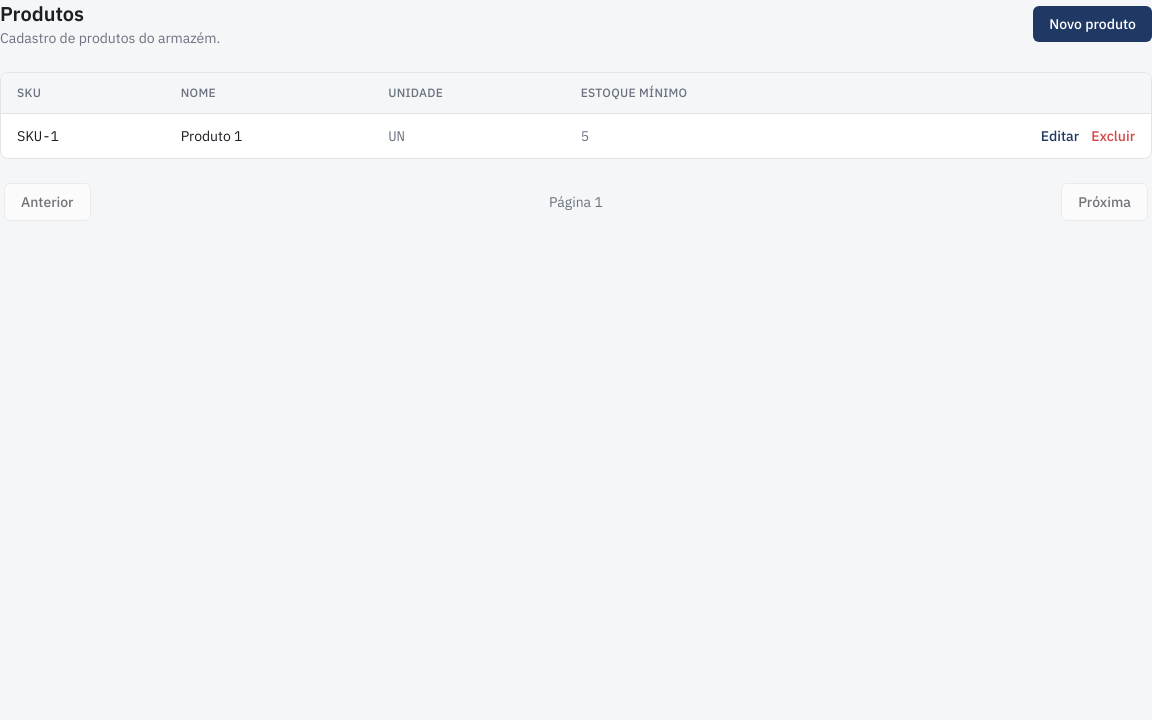
Test: ProdutosListPage › mostra o erro da API quando a exclusão falha (produto com estoque/movimentações)
Click the button "Excluir". click: (1113, 136)
box: [1091,126,1135,146]
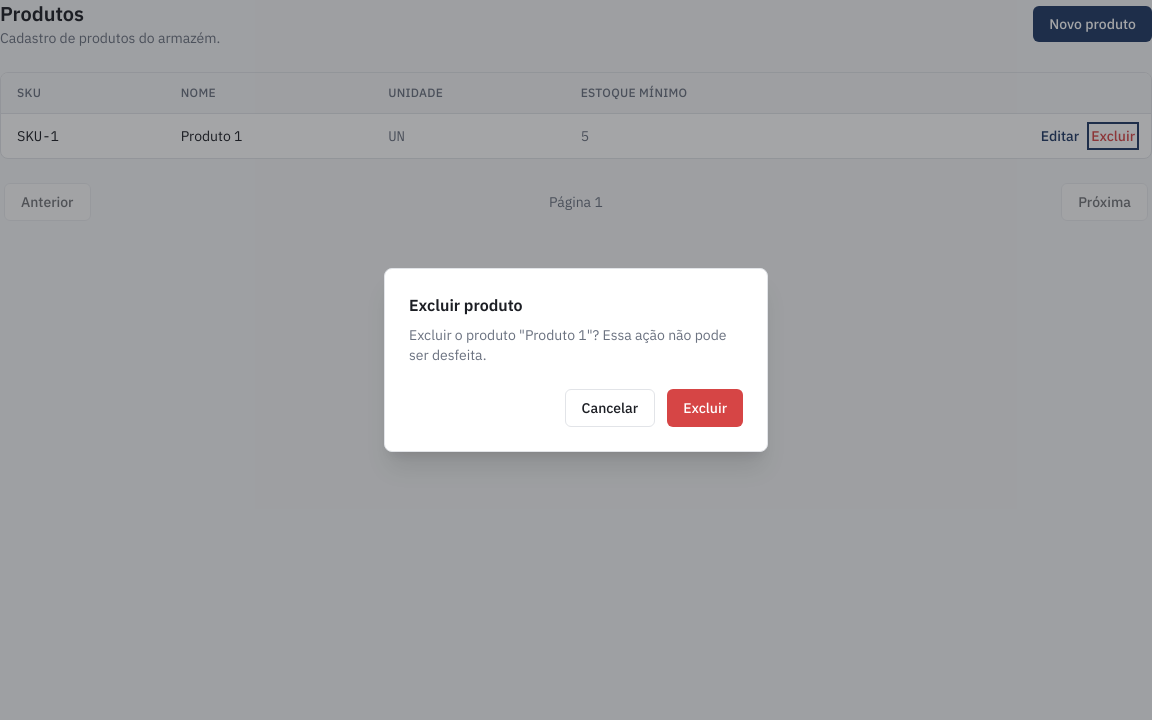
Click the button "Excluir". click: (705, 408)
box: [667,389,743,427]
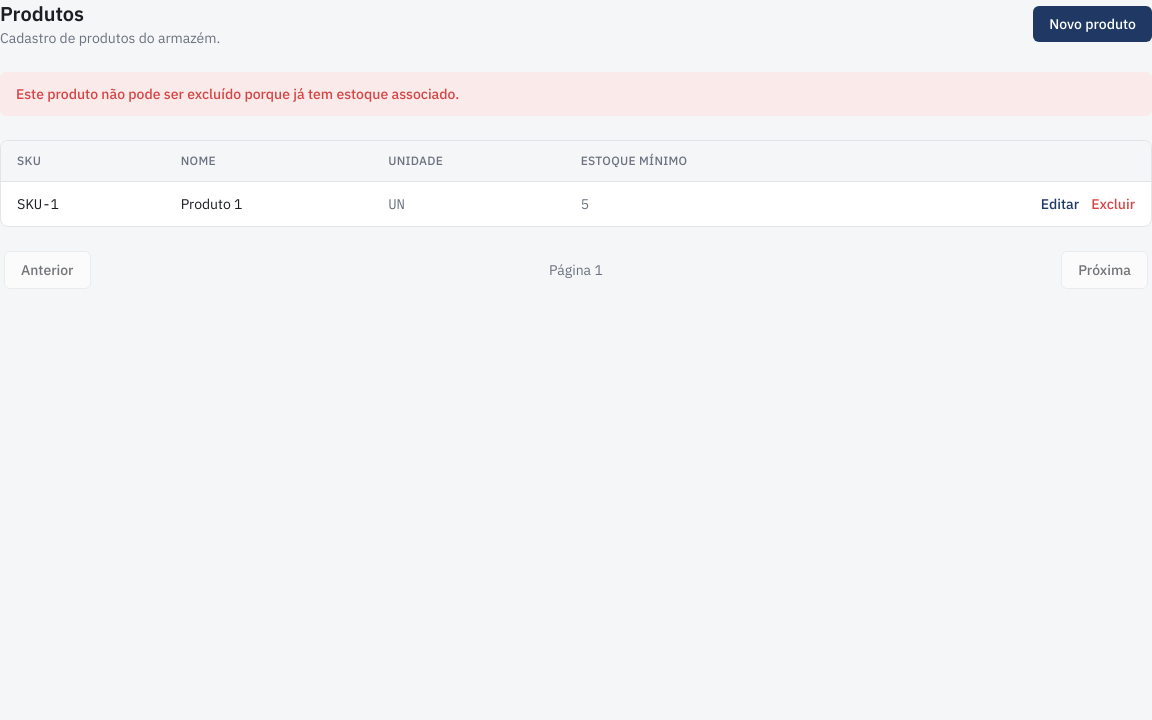
Expected: the text "Este produto não pode ser excluído porque já tem estoque associado." is shown, [0,72,1151,116]
